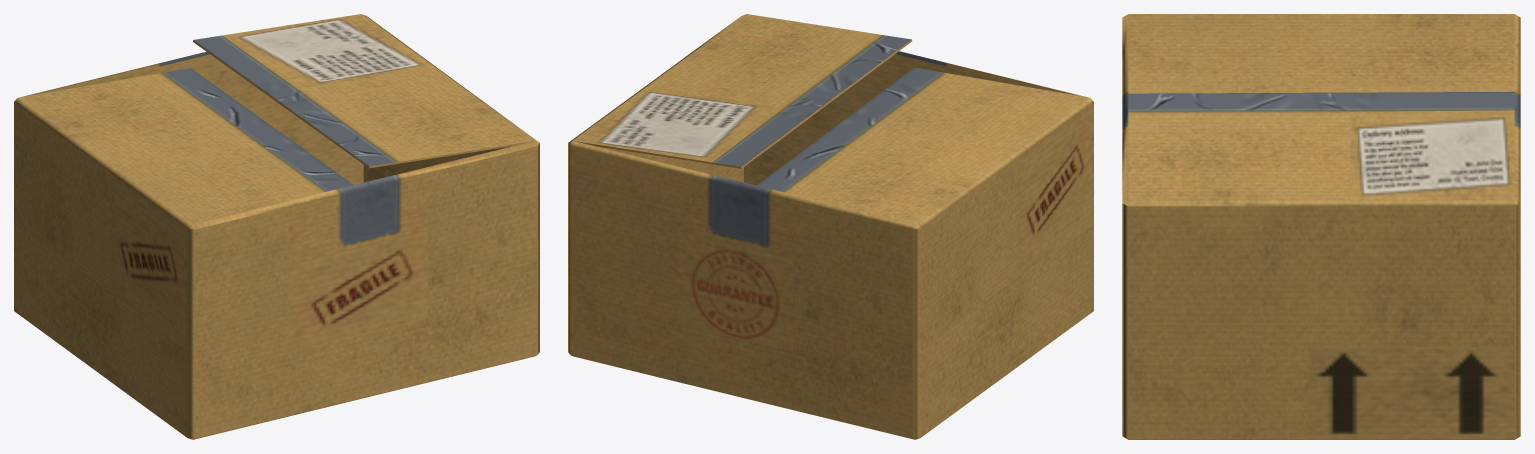
Rendered from cardboard_open_03.fbx.
The picture shows the model from 3 angles, left to right: view 1: azimuth 30°, elevation 25°; view 2: azimuth 150°, elevation 25°; view 3: azimuth 270°, elevation 25°; orthographic projection. The views are drawn at different scales.
Parts seen in each view (by area): view 1: cardboard_open_03; view 2: cardboard_open_03; view 3: cardboard_open_03.
Part boxes in pixels (x1,y1,x2,y2): cardboard_open_03: [14, 14, 539, 439]; cardboard_open_03: [568, 14, 1093, 439]; cardboard_open_03: [1122, 14, 1520, 439].
Bounding box in the file's own units: 72.02 × 45.03 × 63.26.
